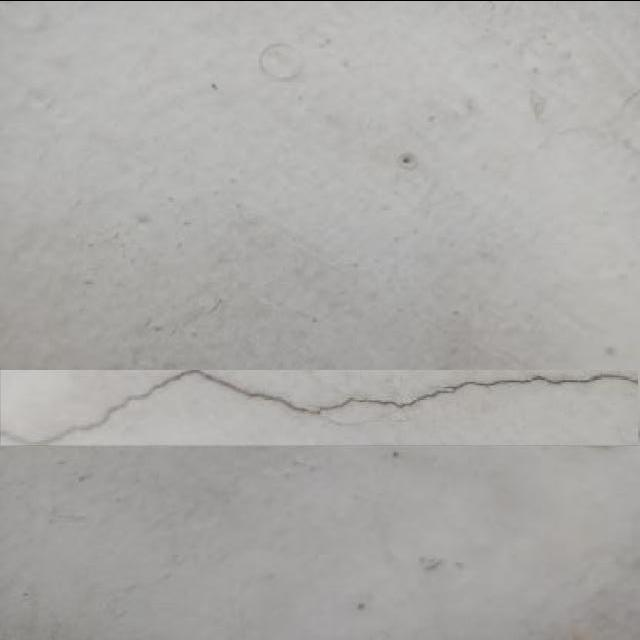crack: (2, 450, 631, 634), (1, 367, 639, 446), (14, 444, 640, 500), (9, 370, 633, 389), (82, 371, 215, 438), (258, 42, 302, 80), (2, 426, 57, 446)
